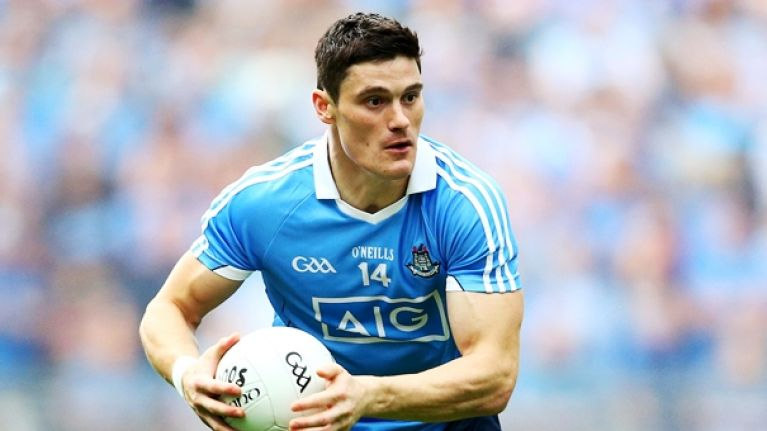ball: (208, 328, 338, 423)
player: (166, 11, 532, 426)
